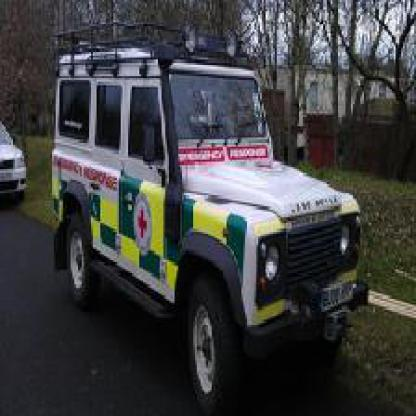emergency: (48, 19, 371, 392)
not_emergency: (0, 105, 31, 218)
